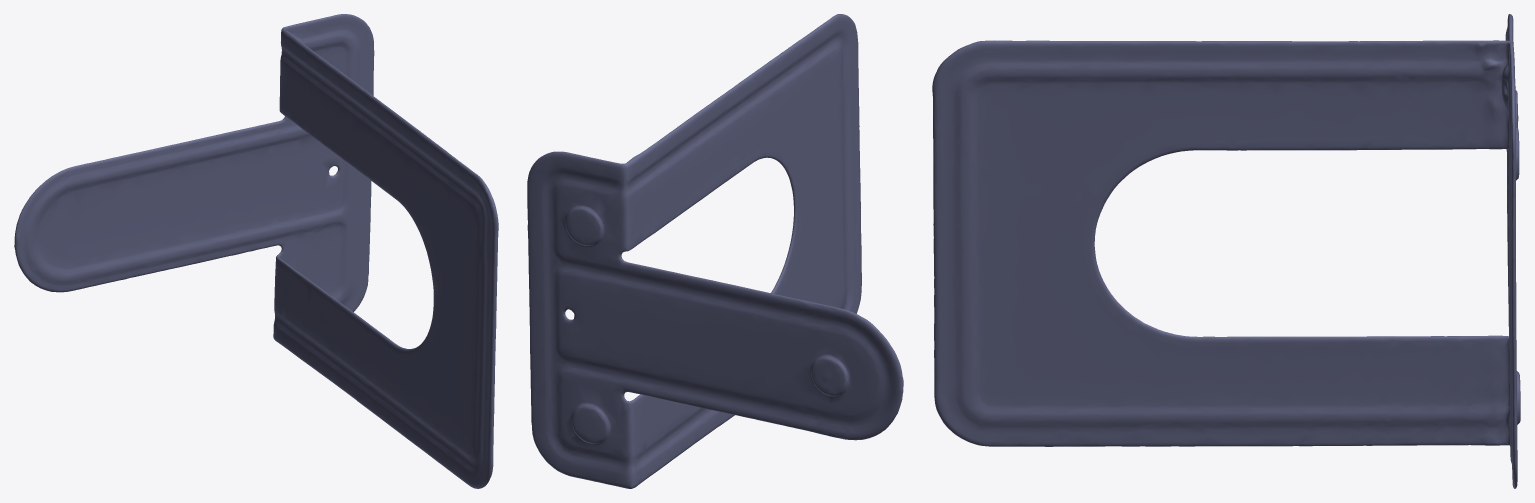
The picture shows the model from 3 angles, left to right: view 1: azimuth 30°, elevation 25°; view 2: azimuth 150°, elevation 25°; view 3: azimuth 270°, elevation 25°; orthographic projection. The views are drawn at different scales.
Size of the model in its own units: 0.1441 by 0.1192 by 0.1544.
